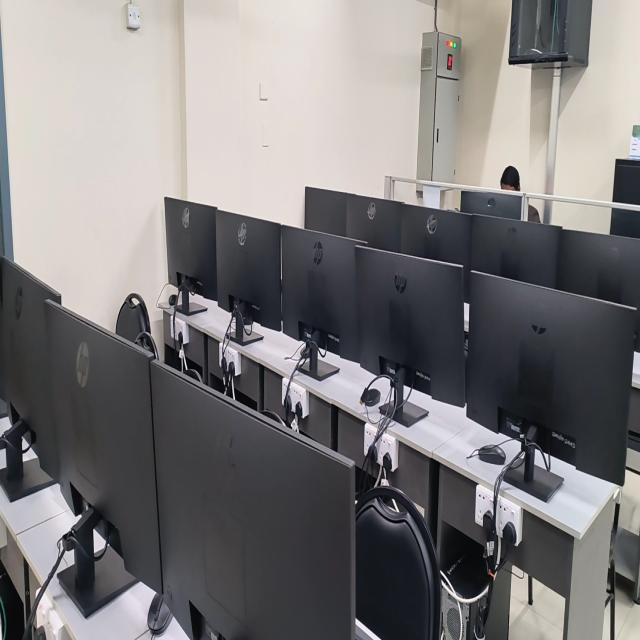Chair: (356, 486, 441, 639), (115, 292, 152, 345), (138, 329, 158, 359), (260, 409, 284, 424), (185, 369, 202, 381)
Cpu: (439, 537, 511, 639)
Monitor: (150, 361, 355, 639), (466, 273, 635, 502), (45, 301, 161, 617), (355, 247, 464, 427), (0, 258, 61, 501), (281, 226, 359, 380), (556, 229, 640, 351), (216, 210, 281, 345), (471, 215, 561, 287), (164, 197, 217, 315), (401, 205, 471, 265), (345, 194, 402, 252), (304, 187, 348, 235), (460, 191, 522, 219)
Mouse: (147, 593, 172, 634), (476, 445, 506, 465), (361, 388, 381, 407), (299, 344, 310, 358), (169, 294, 178, 306)
